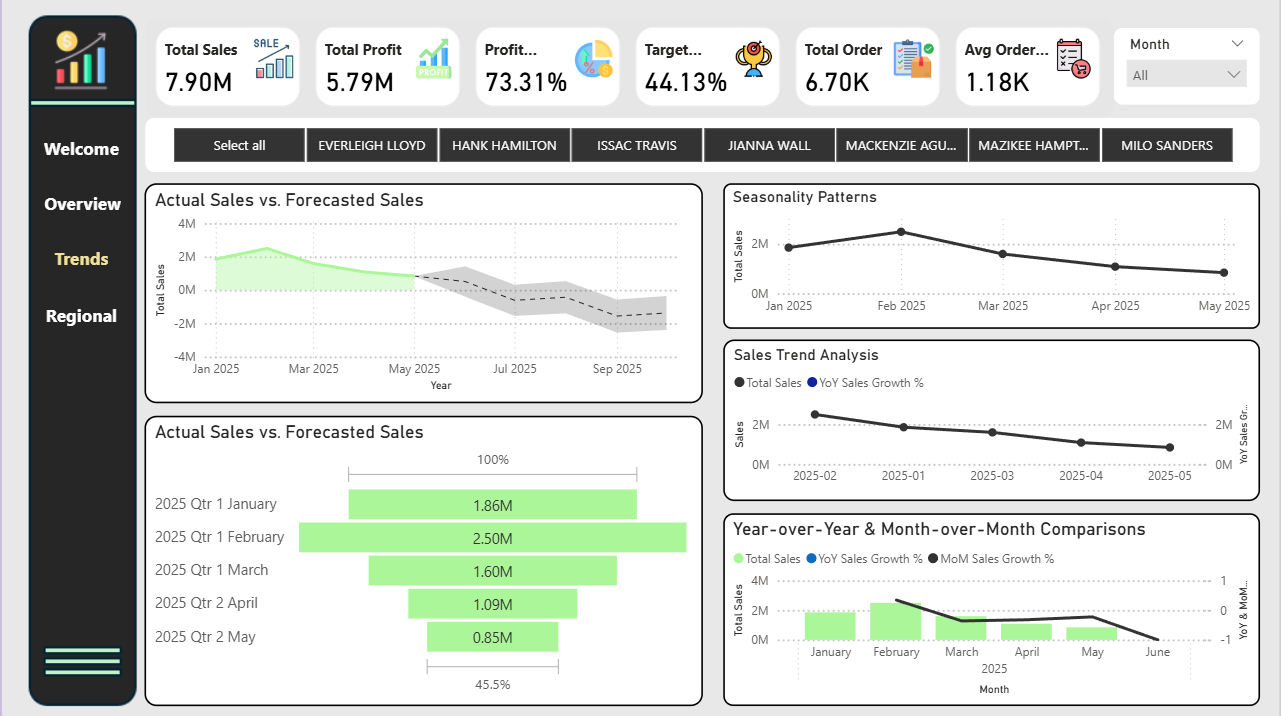

What the dashboard file says about the page in this screenshot:
{"tool":"powerbi","page":{"name":"Sales Trends & Forecast","canvas":[1280,720],"ordinal":2},"visuals":[{"type":"cardVisual","fields":{"Data":["Measure (DAX).Total Sales","Measure (DAX).Total Profit","Measure (DAX).Profit Margin %","Measure (DAX).Target Achievement %","Measure (DAX).Total Order","Measure (DAX).Avg Order Value"]},"box":[143.3,20,968.3,100],"z":0},{"type":"slicer","fields":{"Values":["Calendar.Date.Variation.Date Hierarchy.Month"]},"box":[1111.4,30,147.1,78.6],"z":1000},{"type":"slicer","fields":{"Values":["Sales Target.Sales Agent"]},"box":[142.9,120,1115.7,55.7],"z":2000},{"type":"lineChart","title":"Actual Sales vs. Forecasted Sales","fields":{"Category":["Calendar.Date.Variation.Date Hierarchy.Year","Calendar.Date.Variation.Date Hierarchy.Quarter","Calendar.Date.Variation.Date Hierarchy.Month"],"Y":["Measure (DAX).Total Sales"]},"box":[142.9,185.7,558.6,220],"z":3000},{"type":"lineChart","title":"Seasonality Patterns","fields":{"Y":["Sales.Local Subtotal"],"Category":["Calendar.Date.Variation.Date Hierarchy.Year","Calendar.Date.Variation.Date Hierarchy.Month"]},"box":[721.4,185.7,537.1,145.7],"z":4000},{"type":"lineChart","title":"Sales Trend Analysis","fields":{"Y":["Sales.Local Subtotal"],"Y2":["Measure (DAX).YoY Sales Growth %"],"Category":["Calendar.Year-Month"]},"box":[721.4,342.9,537.1,161.4],"z":5000},{"type":"funnel","title":"Actual Sales vs. Forecasted Sales","fields":{"Category":["Calendar.Date.Variation.Date Hierarchy.Year","Calendar.Date.Variation.Date Hierarchy.Quarter","Calendar.Date.Variation.Date Hierarchy.Month"],"Y":["Measure (DAX).Total Sales"]},"box":[142.9,418.6,558.6,290],"z":6000},{"type":"lineClusteredColumnComboChart","title":"Year-over-Year & Month-over-Month Comparisons ","fields":{"Y":["Measure (DAX).Total Sales"],"Y2":["Measure (DAX).YoY Sales Growth %","Measure (DAX).MoM Sales Growth %"],"Category":["Calendar.Date.Variation.Date Hierarchy.Year","Calendar.Date.Variation.Date Hierarchy.Month"]},"box":[721.4,515.7,537.1,192.9],"z":7000},{"type":"actionButton","box":[22.5,186.2,116.2,38.8],"z":8000},{"type":"actionButton","box":[21.2,241.2,116.2,38.8],"z":9000},{"type":"actionButton","box":[21.2,298.8,116.2,38.8],"z":10000},{"type":"actionButton","box":[21.2,131.2,116.2,38.8],"z":11000}]}

Visuals, with their boxes in screenshot pixels (x1, y1, x2, y2), scaled from the page's 1280x720 canvas onto the 1281x716 screenshot:
cardVisual - Measure (DAX).Total Sales x Measure (DAX).Total Profit: x1=143, y1=20, x2=1112, y2=119
slicer - Calendar.Date.Variation.Date Hierarchy.Month: x1=1112, y1=30, x2=1259, y2=108
slicer - Sales Target.Sales Agent: x1=143, y1=119, x2=1260, y2=175
"Actual Sales vs. Forecasted Sales" lineChart: x1=143, y1=185, x2=702, y2=403
"Seasonality Patterns" lineChart: x1=722, y1=185, x2=1259, y2=330
"Sales Trend Analysis" lineChart: x1=722, y1=341, x2=1259, y2=501
"Actual Sales vs. Forecasted Sales" funnel: x1=143, y1=416, x2=702, y2=705
"Year-over-Year & Month-over-Month Comparisons " lineClusteredColumnComboChart: x1=722, y1=513, x2=1259, y2=705
actionButton: x1=23, y1=185, x2=139, y2=224
actionButton: x1=21, y1=240, x2=138, y2=278
actionButton: x1=21, y1=297, x2=138, y2=336
actionButton: x1=21, y1=130, x2=138, y2=169
